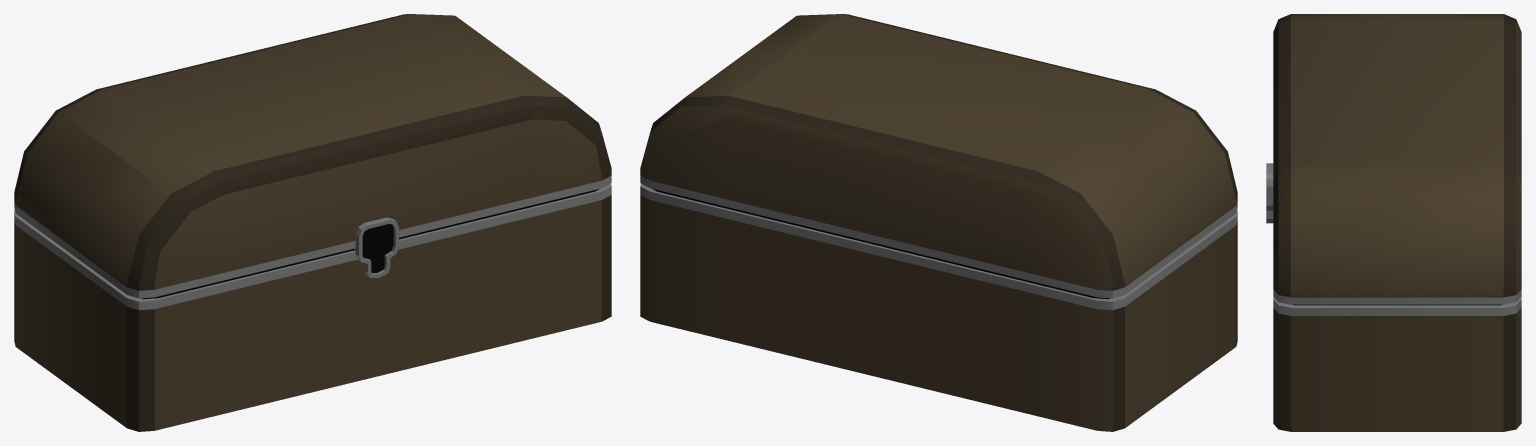
The model's file is PROJECT DREAM - Bedroom - Big Chest.fbx.
3 views of the same model, side by side, from view 1: azimuth 30°, elevation 25°; view 2: azimuth 150°, elevation 25°; view 3: azimuth 270°, elevation 25° (orthographic). The views are drawn at different scales.
Parts seen in each view (by area): view 1: Bedroom - Big Chest; view 2: Bedroom - Big Chest; view 3: Bedroom - Big Chest.
Boxes of the visible parts, left/top/right/bottom form: Bedroom - Big Chest: left=14, top=14, right=611, bottom=431; Bedroom - Big Chest: left=640, top=14, right=1237, bottom=431; Bedroom - Big Chest: left=1266, top=14, right=1521, bottom=431.
Bounding box in the file's own units: 109 × 51.02 × 52.43.
